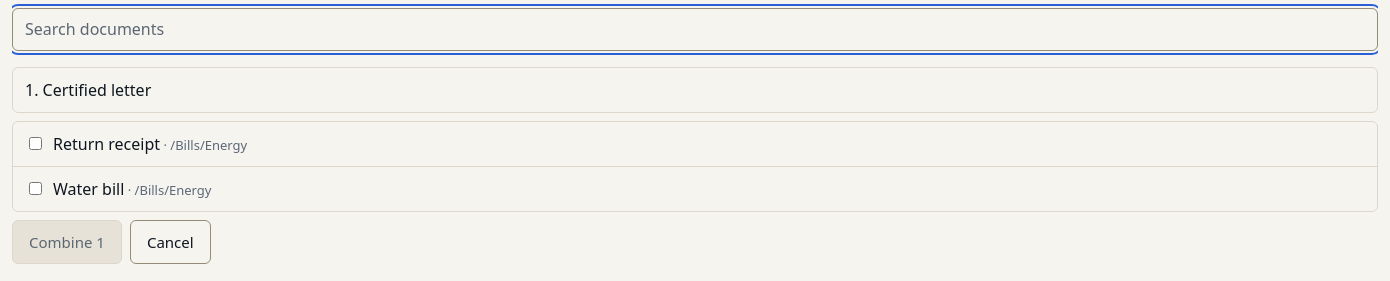
Test: DocumentChooser: combine › says when a combine search matches nothing
The image size is (1390, 281).
Expected: the text "No matching documents." is not shown
Type "zzz" into the search field labelled "Search documents" at (695, 29), box [12,8,1378,51]
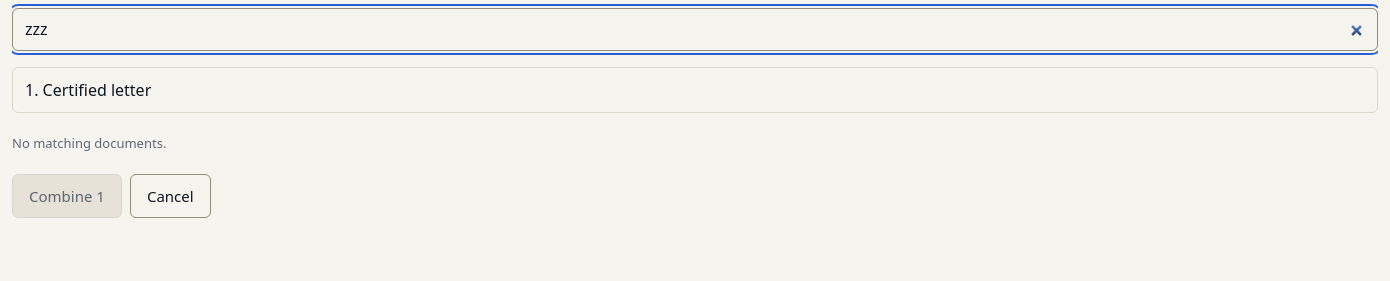
Result: the text "No matching documents." is shown at [12,134,166,152]
